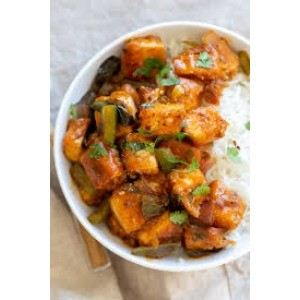tofu_brain food: (78, 83, 225, 233)
